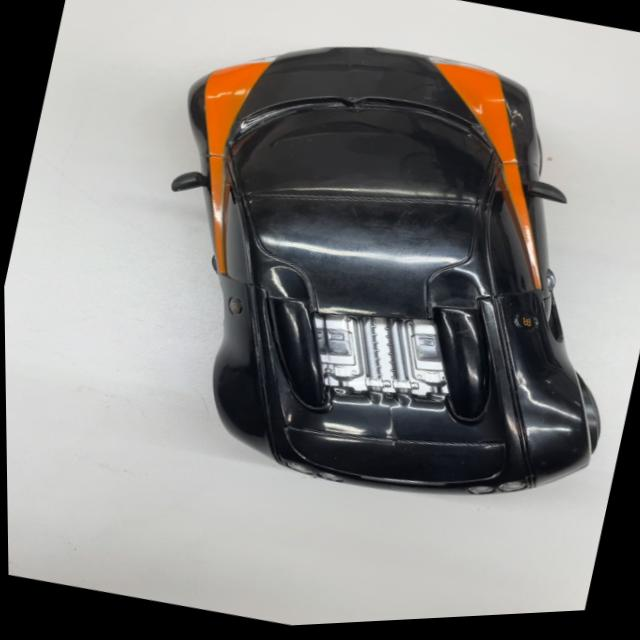vehicle_body: (94, 0, 640, 553)
